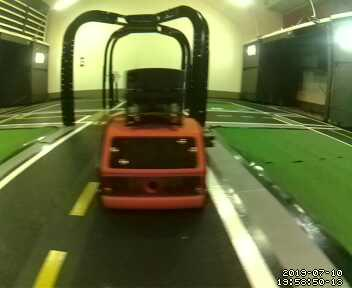pheeno: (97, 66, 215, 215)
